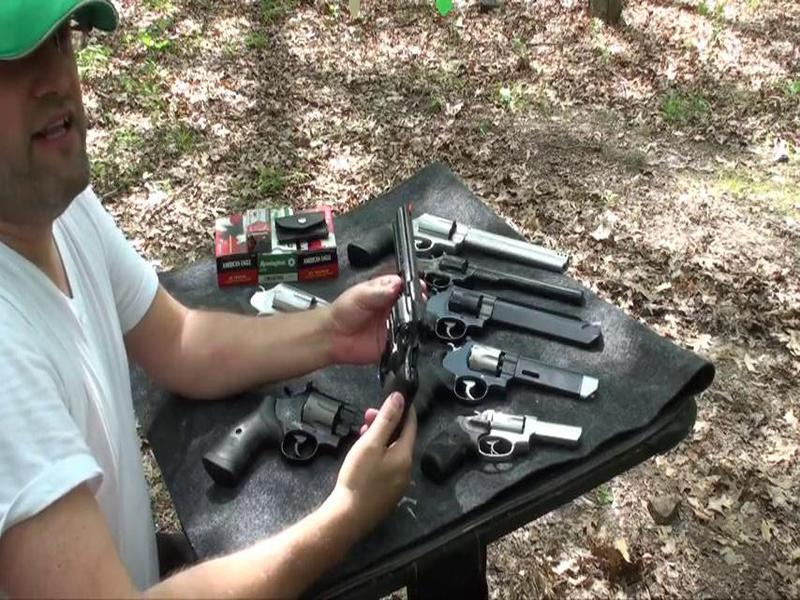Revolver: (341, 201, 447, 431)
